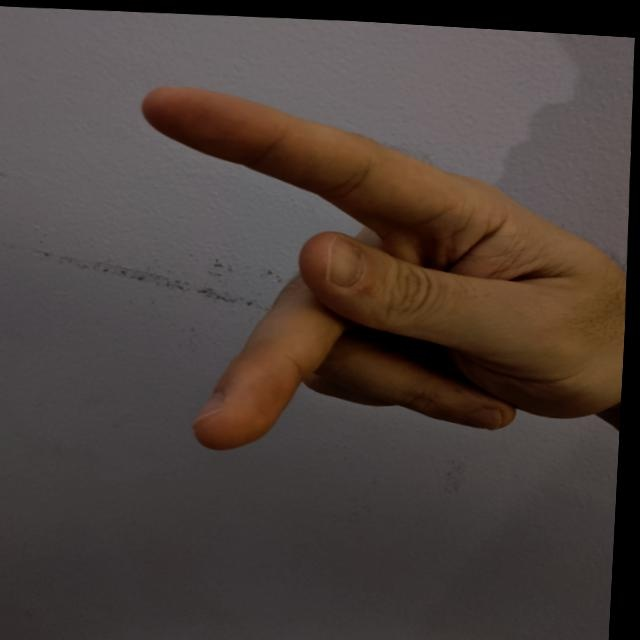P: (119, 68, 636, 474)
